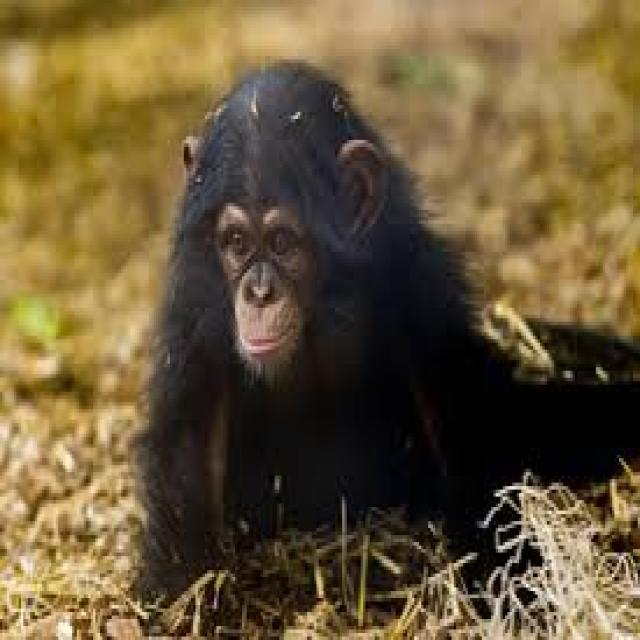chimpanzee: (135, 63, 470, 591)
